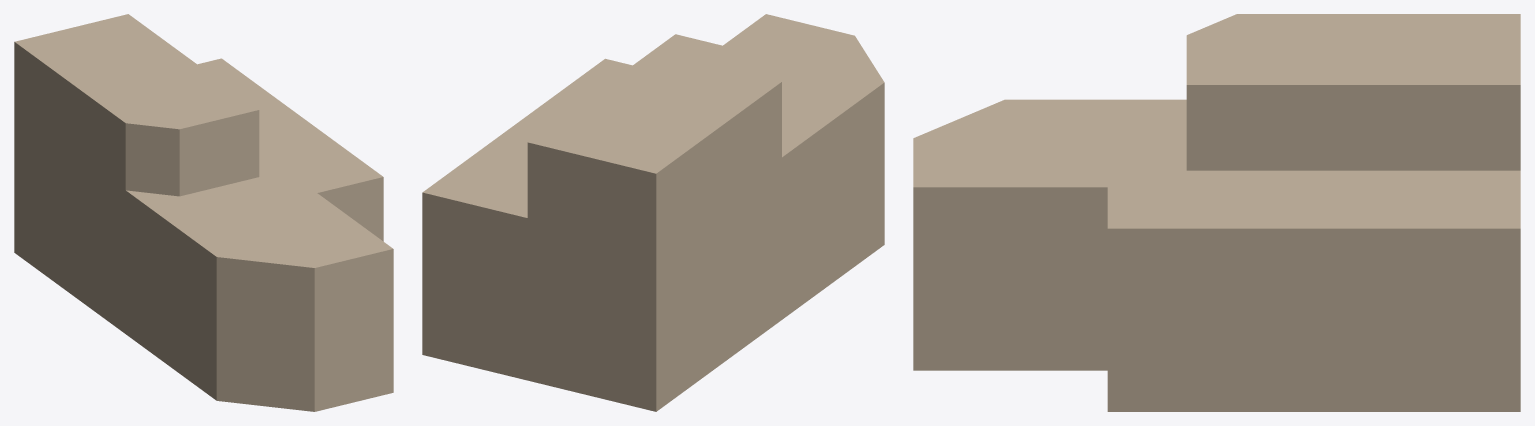
Rendered from massing.glb.
The picture shows the model from 3 angles, left to right: view 1: azimuth 30°, elevation 25°; view 2: azimuth 150°, elevation 25°; view 3: azimuth 270°, elevation 25°; orthographic projection. The views are drawn at different scales.
Visible parts, largest first — view 1: building/exterior; view 2: building/exterior; view 3: building/exterior.
Part boxes in pixels (bbox=[...]): building/exterior: bbox=[14, 14, 393, 411]; building/exterior: bbox=[422, 14, 884, 411]; building/exterior: bbox=[913, 14, 1520, 411].
Size of the model in its own units: 9.04 by 8.8 by 18.
